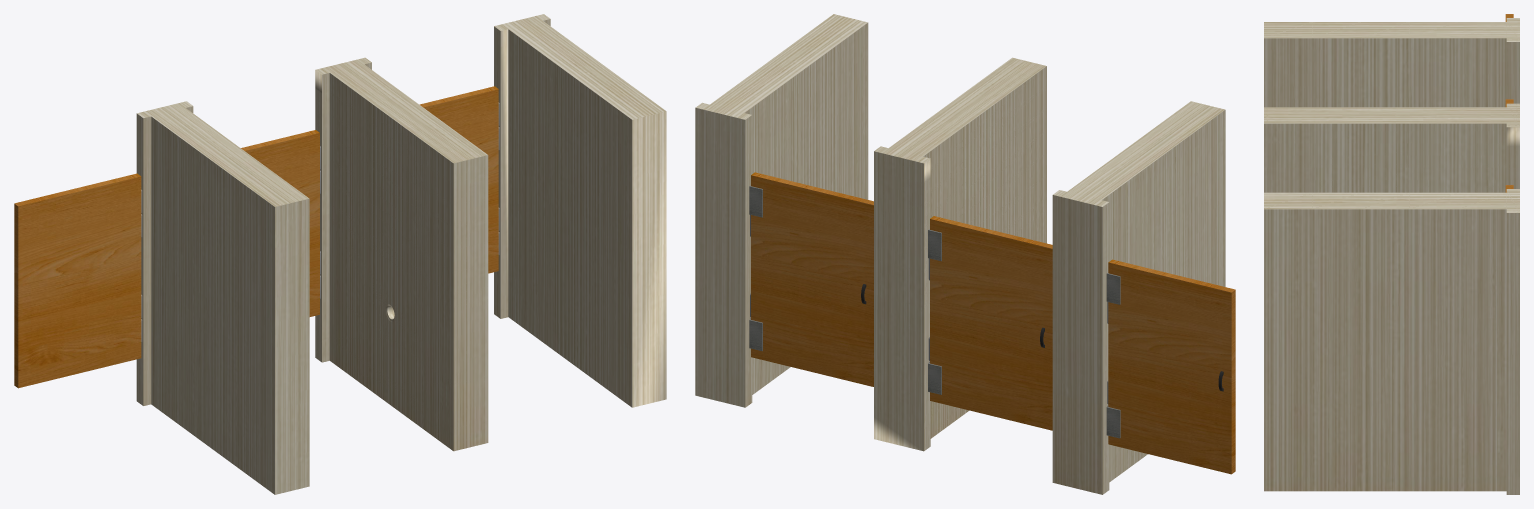
File: Wc set2.FBX
3 views of the same model, side by side, from view 1: azimuth 30°, elevation 25°; view 2: azimuth 150°, elevation 25°; view 3: azimuth 270°, elevation 25° (orthographic). The views are drawn at different scales.
Parts seen in each view (by area): view 1: Box067, Box044, Box068, Box063; view 2: Box067, Box044, Box063, Box068; view 3: Box067.
Boxes of the visible parts, bbox=[...] form: Box067: bbox=[136, 14, 666, 494]; Box044: bbox=[14, 173, 141, 388]; Box068: bbox=[419, 86, 498, 273]; Box063: bbox=[241, 130, 319, 316]; Box067: bbox=[695, 14, 1225, 494]; Box044: bbox=[1108, 259, 1235, 474]; Box063: bbox=[930, 216, 1052, 430]; Box068: bbox=[751, 172, 873, 386]; Box067: bbox=[1264, 18, 1519, 494].
Size of the model in its own units: 6332 by 3269 by 2687.
